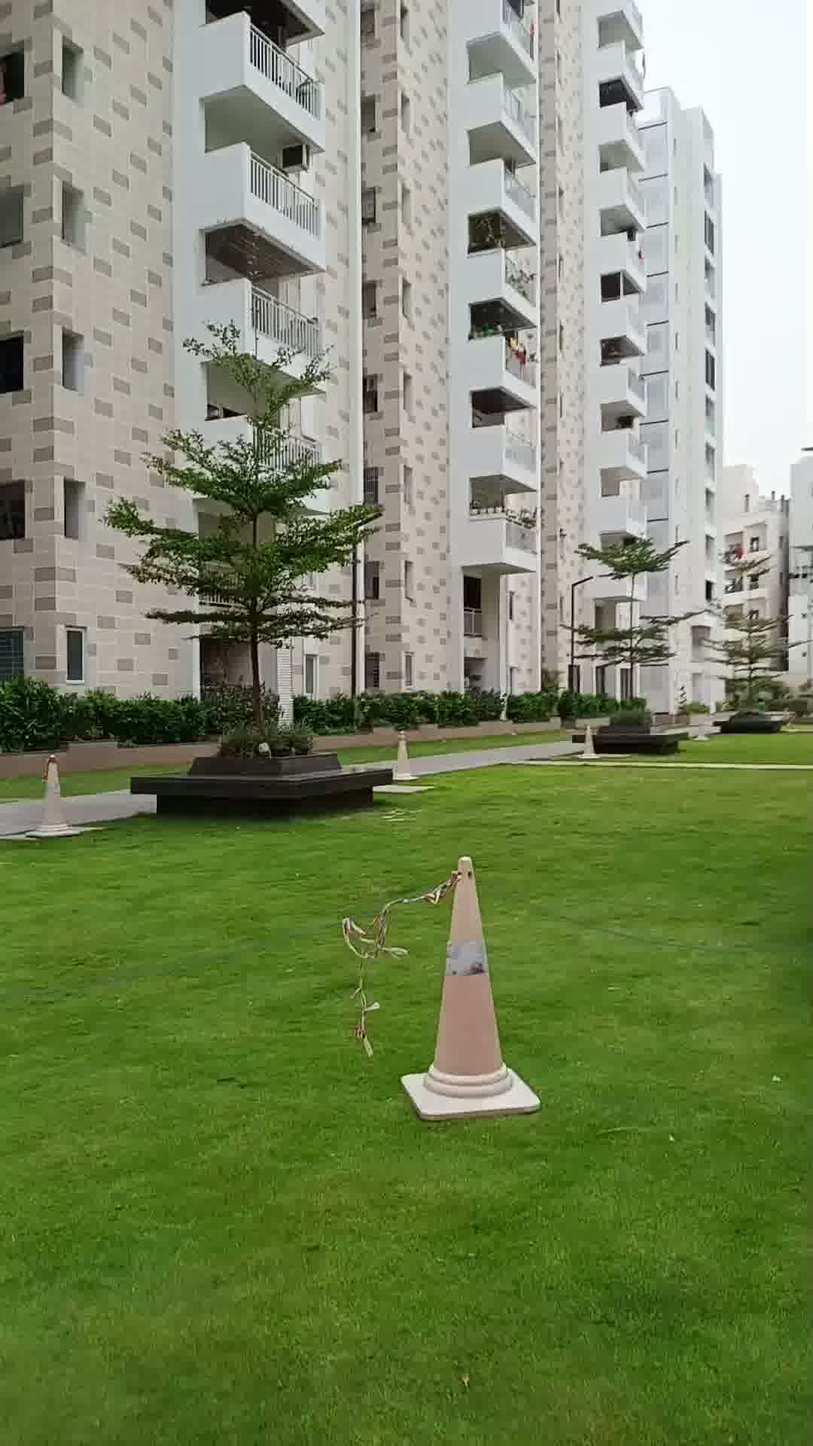tree: (145, 296, 361, 797), (546, 492, 706, 749), (714, 512, 813, 740)
